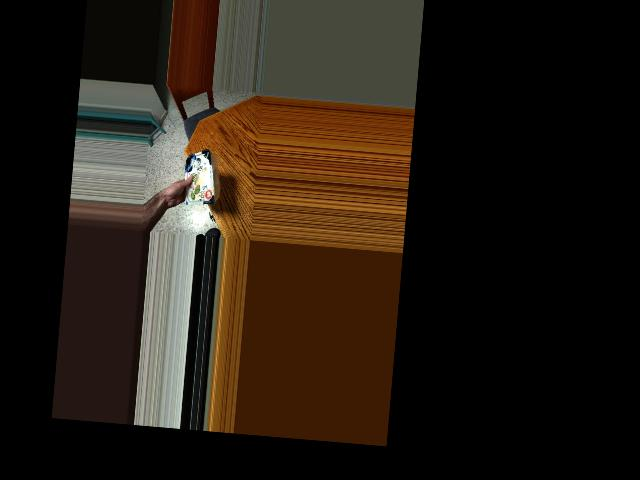cheese: (176, 150, 219, 204)
